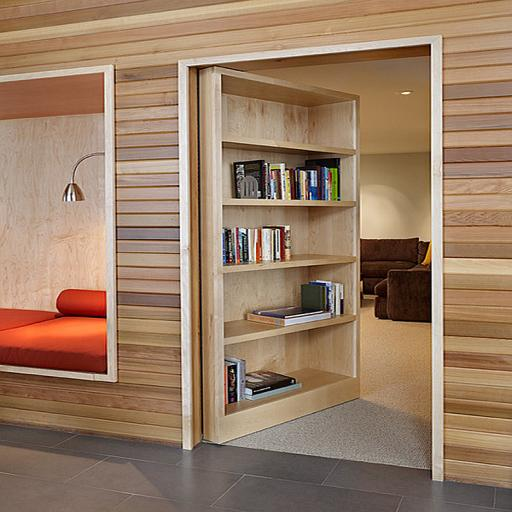Door: (201, 66, 360, 444)
